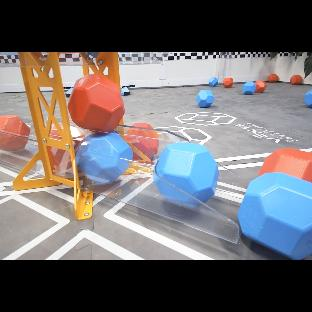Low_goal: (79, 123, 249, 243), (0, 136, 38, 167), (52, 148, 73, 178), (81, 130, 90, 136)
Med_goal: (13, 52, 93, 220), (78, 52, 120, 87), (129, 143, 151, 162), (118, 118, 124, 134)
V5_BLUE: (238, 172, 312, 260), (153, 142, 219, 208), (76, 133, 134, 185), (242, 80, 266, 95), (196, 90, 214, 108), (304, 89, 312, 108), (209, 77, 218, 87)
V5_RED: (68, 74, 125, 156), (258, 148, 312, 183), (121, 122, 159, 161), (0, 115, 30, 151), (46, 145, 72, 173), (48, 124, 65, 141), (251, 80, 267, 93), (290, 75, 302, 85), (223, 77, 233, 87), (268, 74, 278, 82)
blueingoal: (153, 142, 219, 207), (76, 132, 133, 185)
redingoal: (0, 115, 30, 151), (47, 146, 71, 171), (70, 125, 86, 148), (50, 125, 61, 140)
